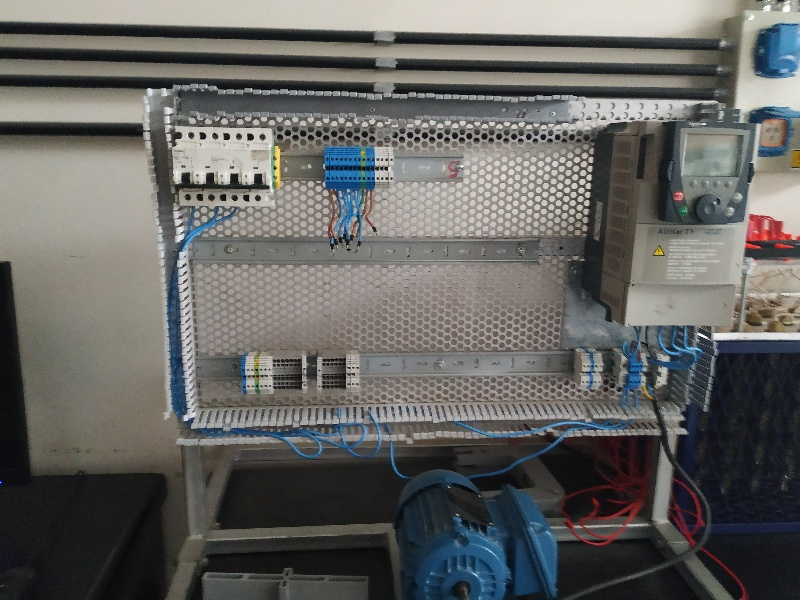Tablero 0: (164, 96, 758, 445)
